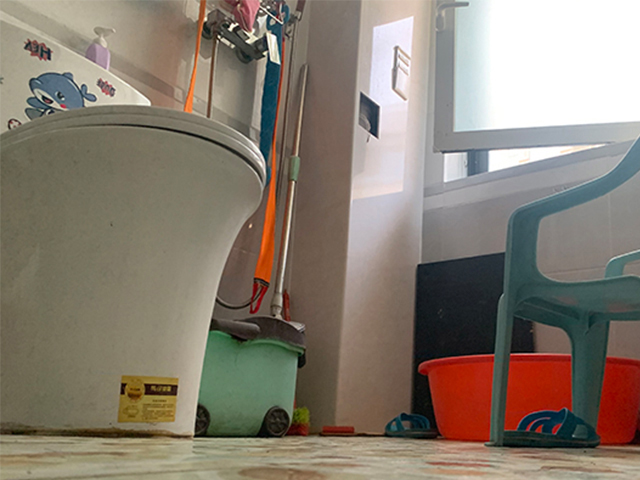closestool: (1, 18, 268, 439)
slippers: (500, 408, 602, 449), (385, 411, 439, 440)
stool: (483, 134, 640, 448)
